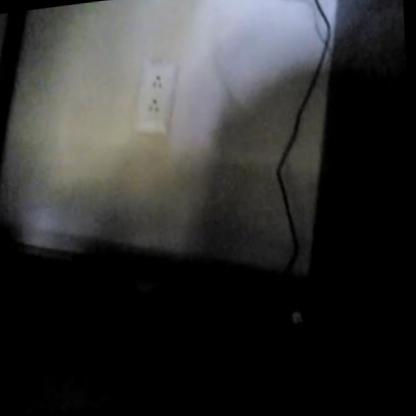OUTLET: (134, 55, 181, 138)
